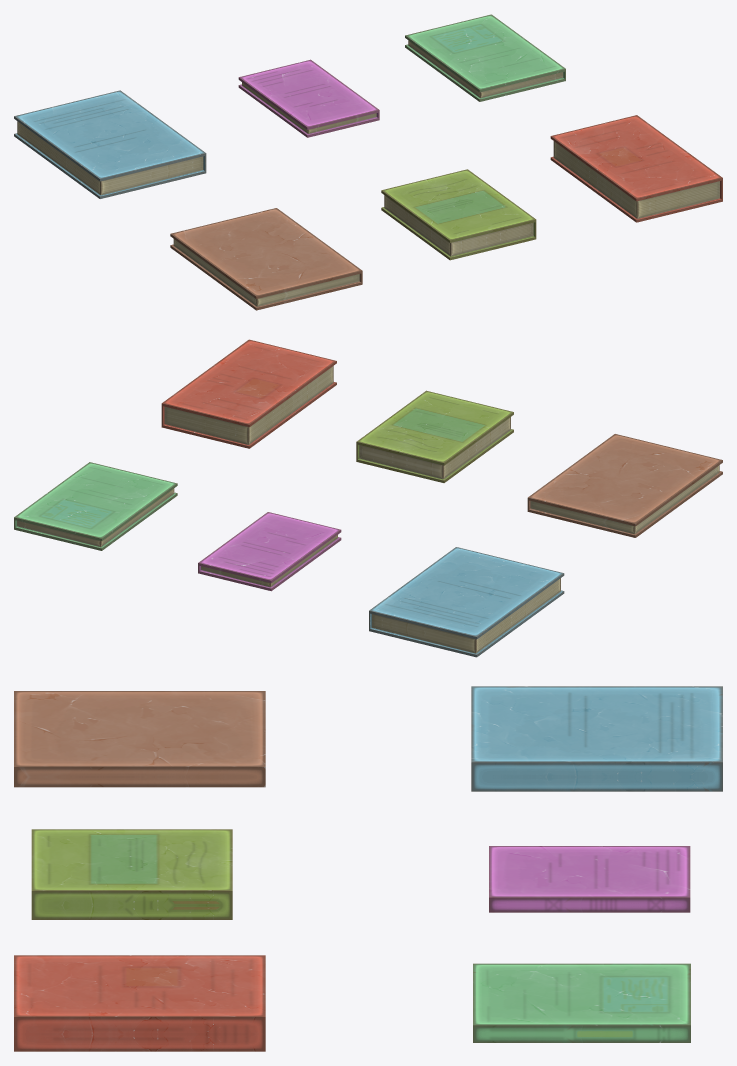
File: Books.obj
The picture shows the model from 3 angles, top to bottom: view 1: azimuth 30°, elevation 25°; view 2: azimuth 150°, elevation 25°; view 3: azimuth 270°, elevation 25°; orthographic projection. The views are drawn at different scales.
Parts seen in each view (by area): view 1: Books; view 2: Books; view 3: Books.
Part boxes in pixels (box(x1,y1,x2,y2)): Books: box(14, 14, 722, 310); Books: box(14, 339, 722, 657); Books: box(14, 686, 722, 1051).
Bounding box in the file's own units: 5.17 × 0.2507 × 4.65.
